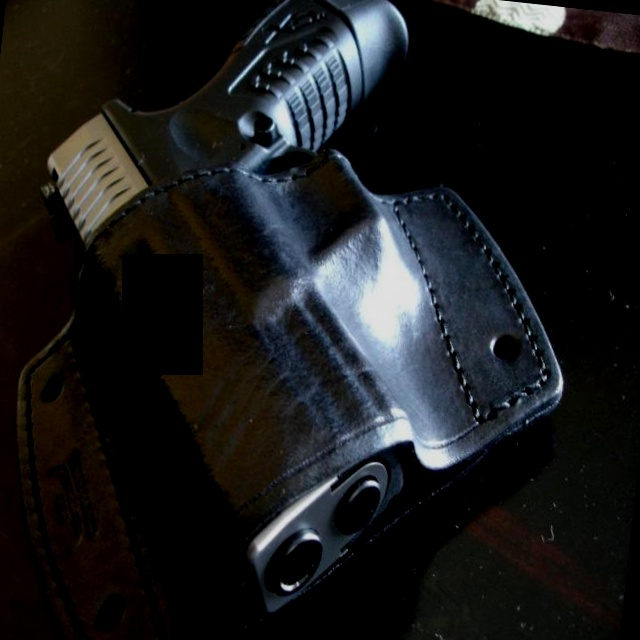gun: (15, 0, 553, 640)
